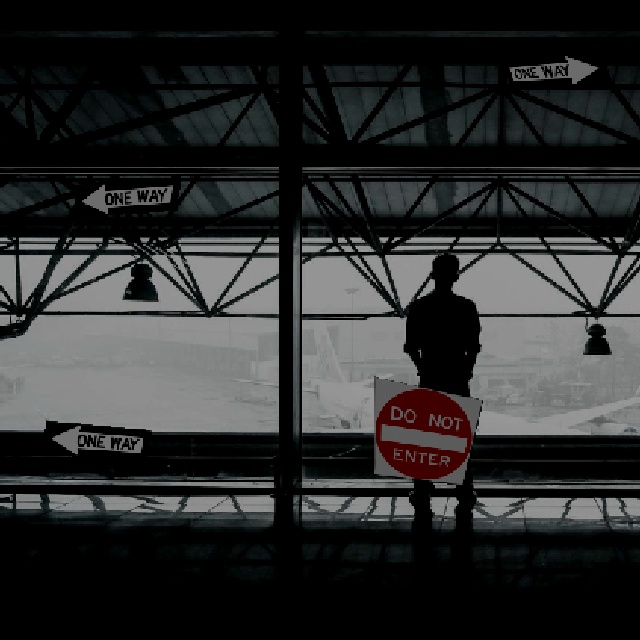DO_NOT_ENTER: (372, 375, 482, 484)
ONE_WAY_ left: (70, 174, 180, 216), (40, 419, 150, 460)
ONE_WAY_ right: (501, 49, 611, 87)
